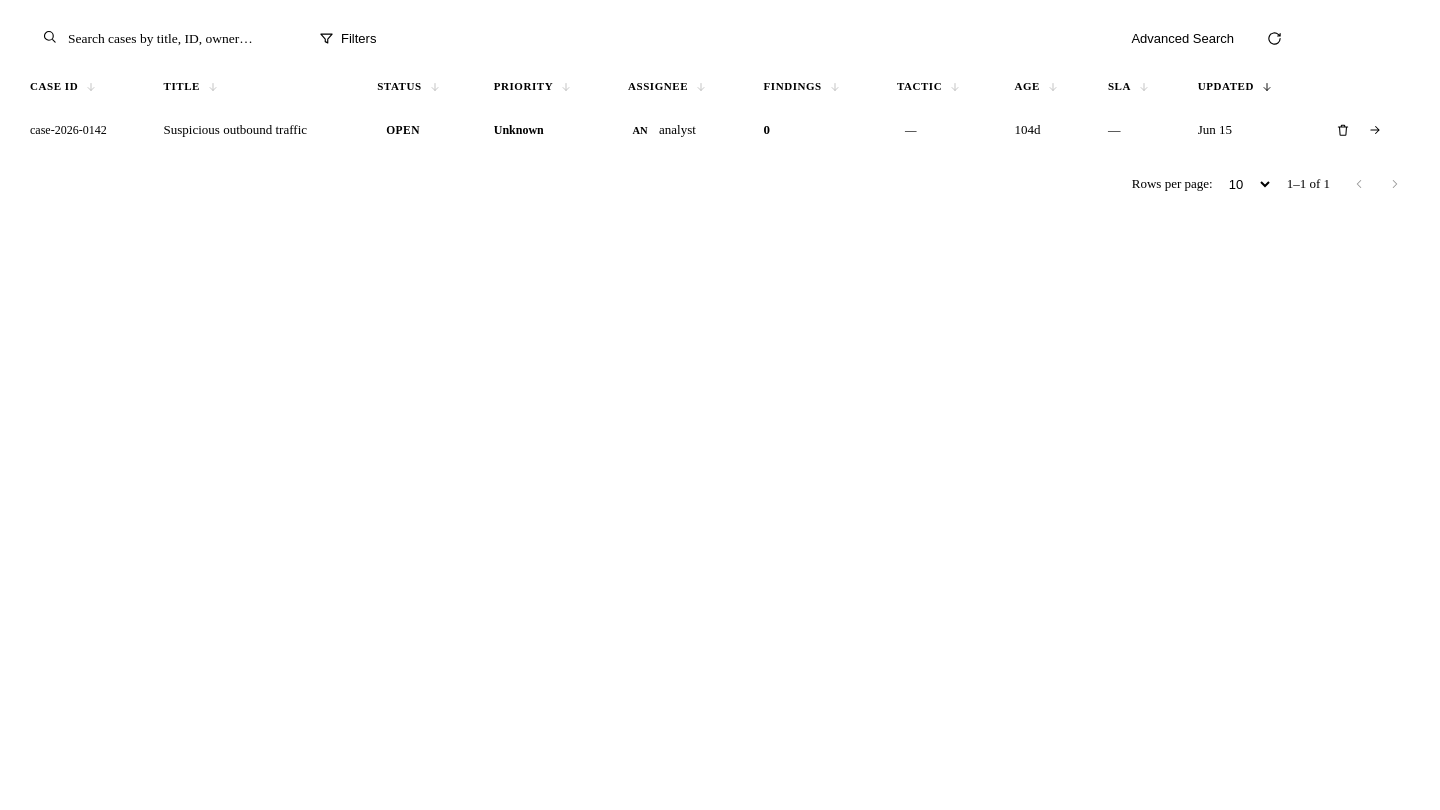
Test: unknown priority › renders Unknown on the list and offers it as a filter
This screenshot has width=1440, height=810.
Expected: the text "Unknown" is shown, [494, 124, 544, 138]
Click the button "Filters" at (348, 38), box [306, 23, 389, 54]
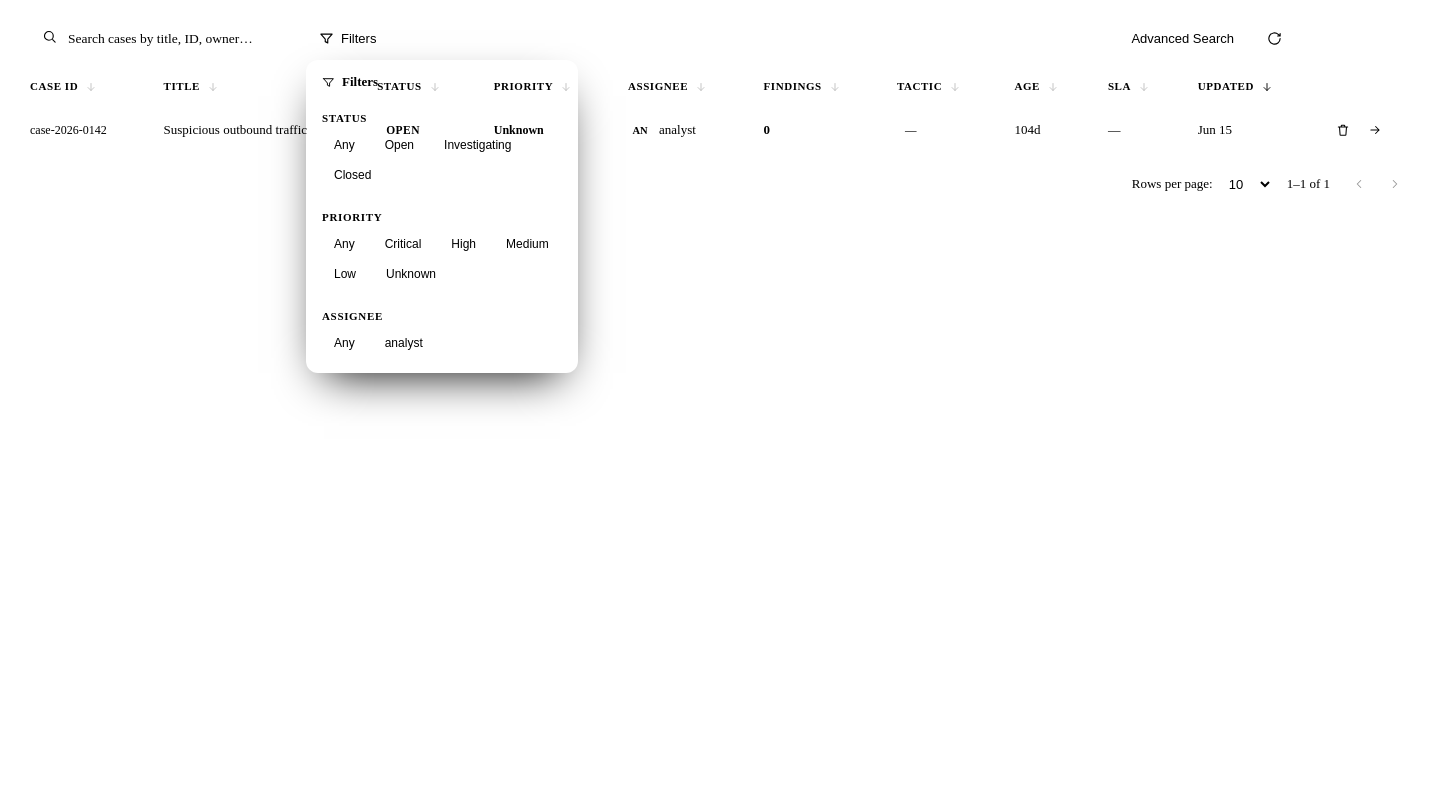
Expected: the button "Unknown" is shown, [374, 262, 448, 286]
